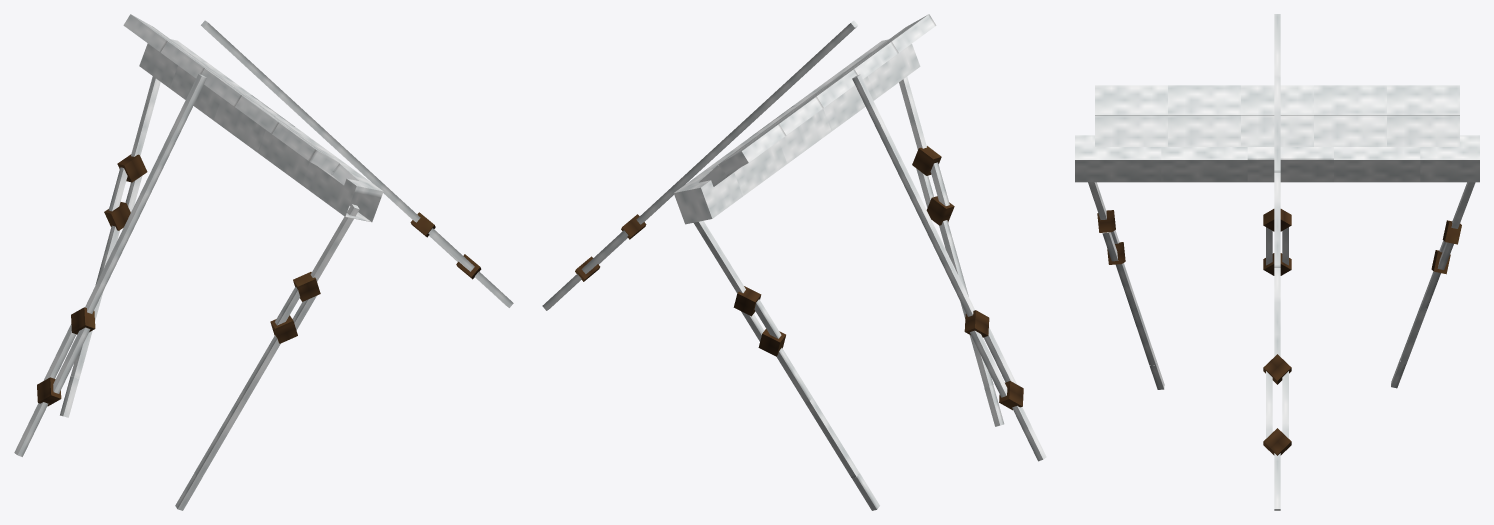
File: cog_segel_1_1.obj
3 renders of one model, left to right at view 1: azimuth 30°, elevation 25°; view 2: azimuth 150°, elevation 25°; view 3: azimuth 270°, elevation 25°, orthographic. The views are drawn at different scales.
Visible parts, largest first — view 1: cube; view 2: cube; view 3: cube.
Part boxes in pixels (x1,y1,x2,y2): cube: (14,14,513,510); cube: (542,14,1046,510); cube: (1075,14,1479,510).
Size of the model in its own units: 5.3 by 4.33 by 3.81.
